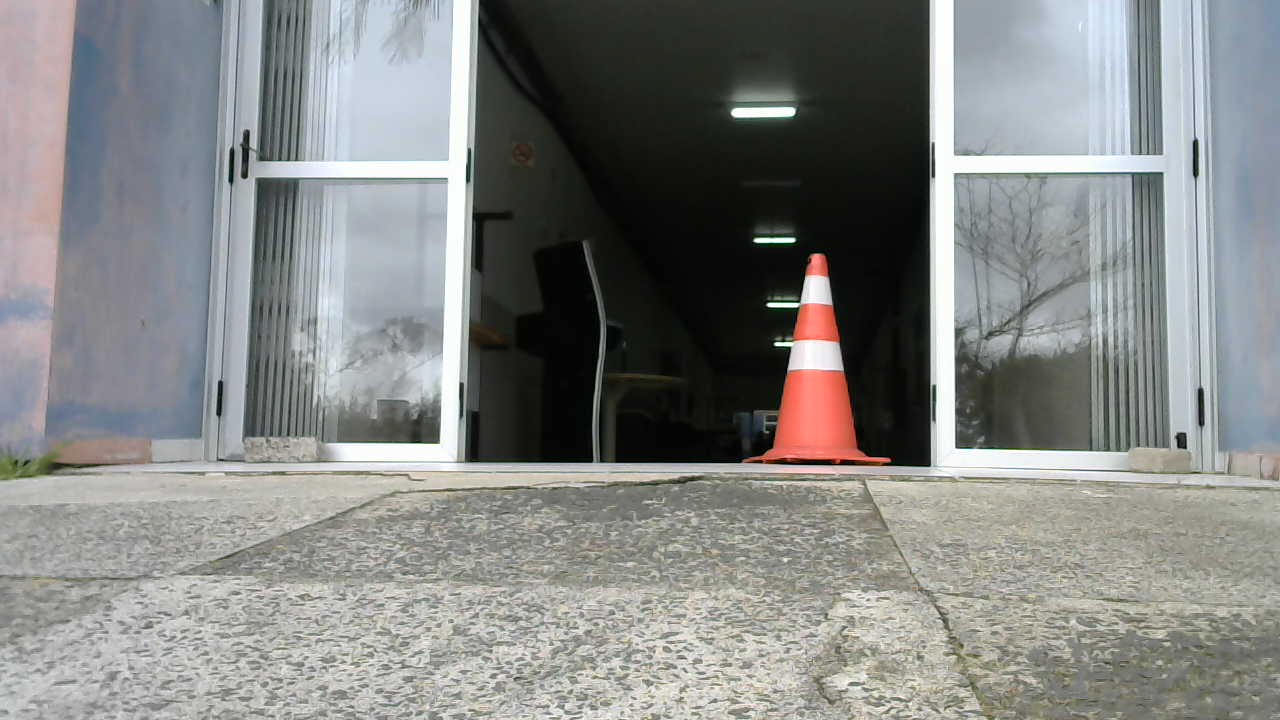cone: (753, 249, 885, 468)
